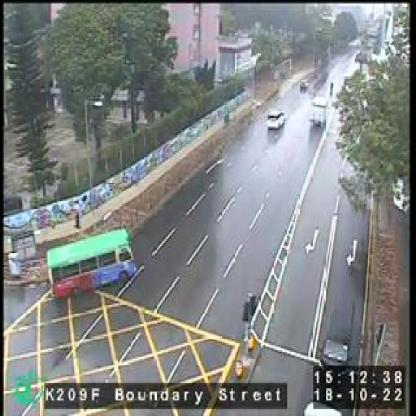Car: (266, 108, 286, 131)
Minibus: (48, 228, 136, 300)
Truck: (310, 96, 328, 129)
